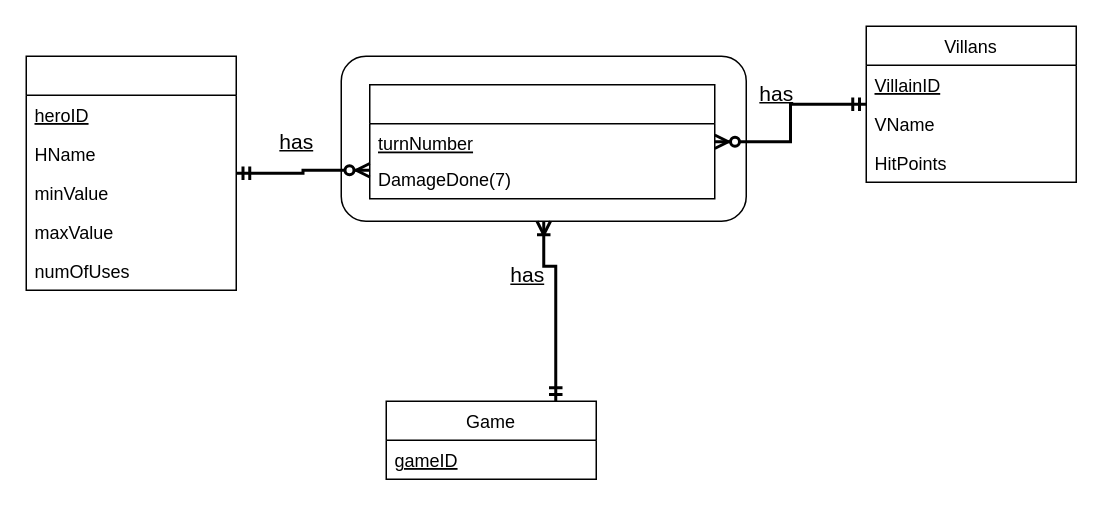
The diagram is 1103 pixels wide and 510 high, and some of its shapes have lost their labels. The shapes that lost their labels are listed below. From the top down, each one's box as (x1, y1, x2, y2) in pixels, then its label:
(368, 83, 715, 199): Action
(25, 55, 236, 290): Heroes
